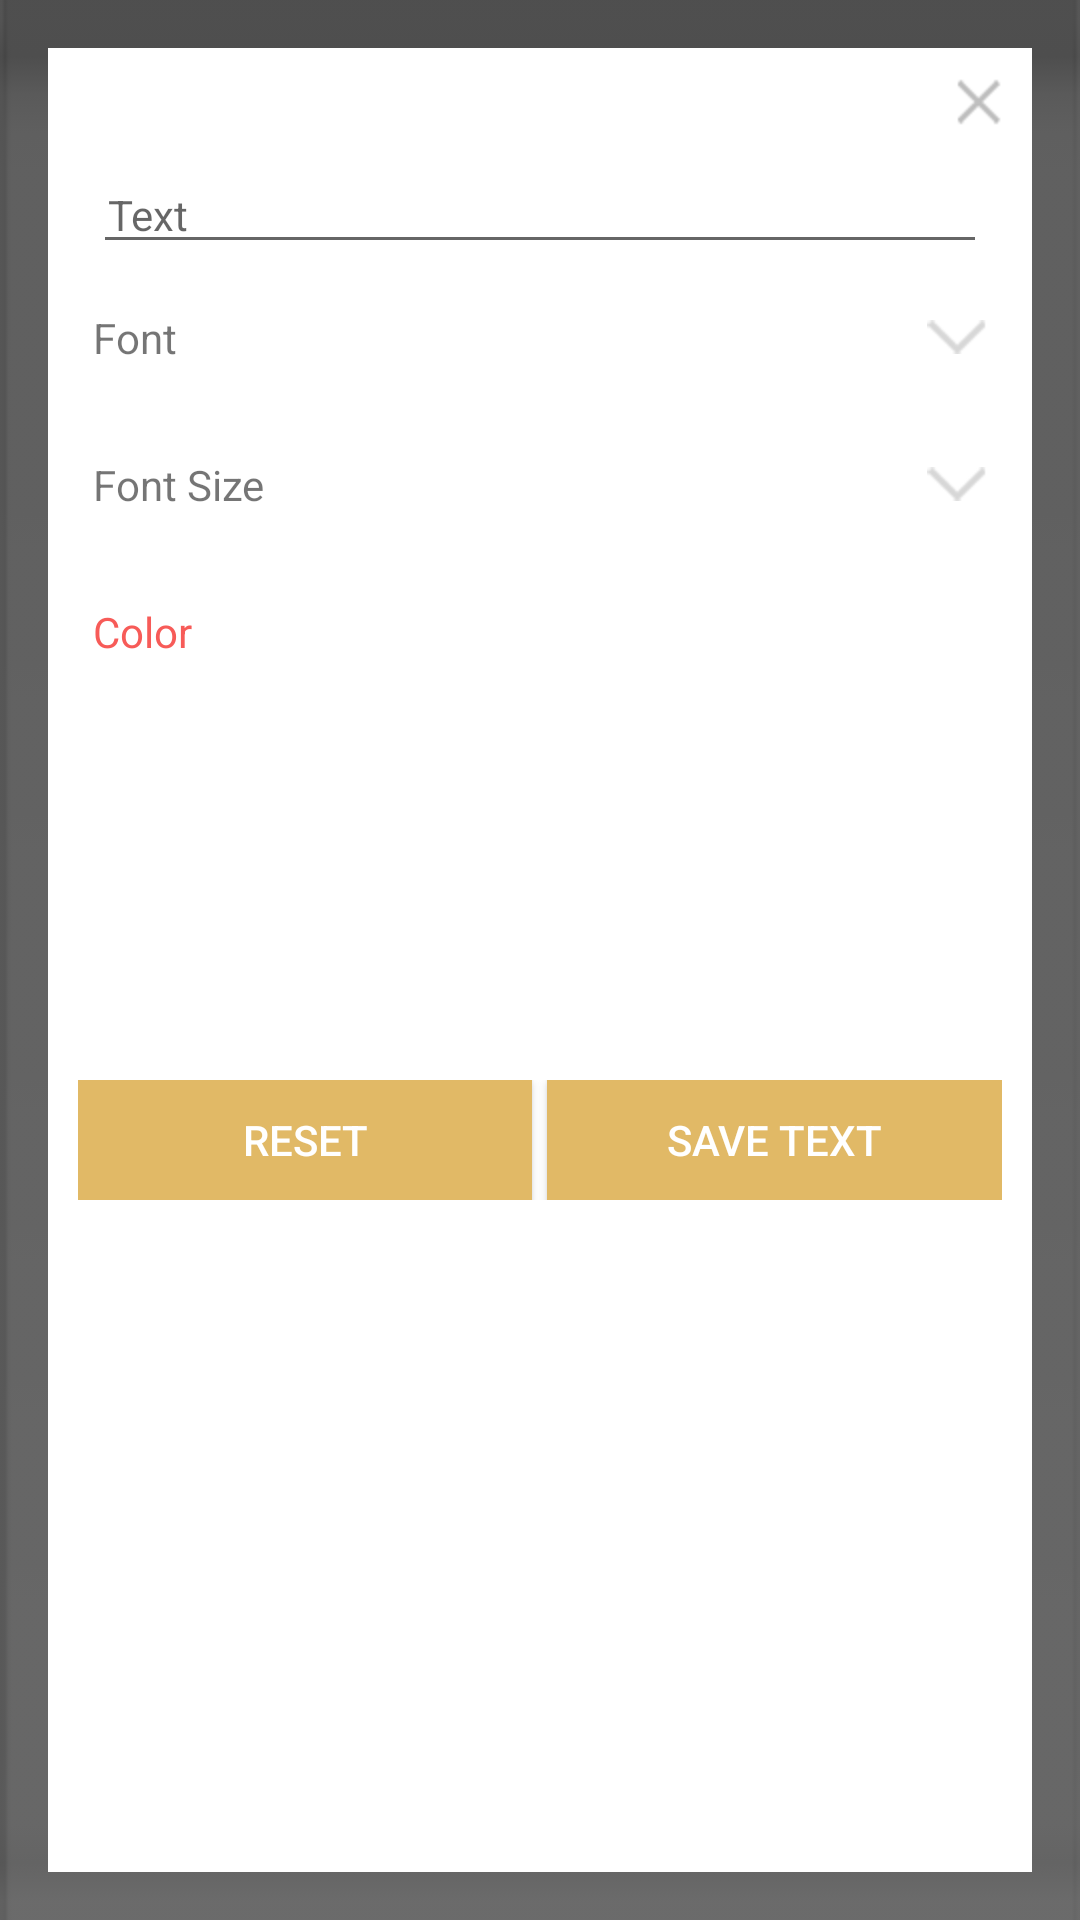

Locate icon controls on the screen. Image size 1080*1920, boxes as (x1, y1, x2, y2).
close: (958, 80, 1000, 124)
